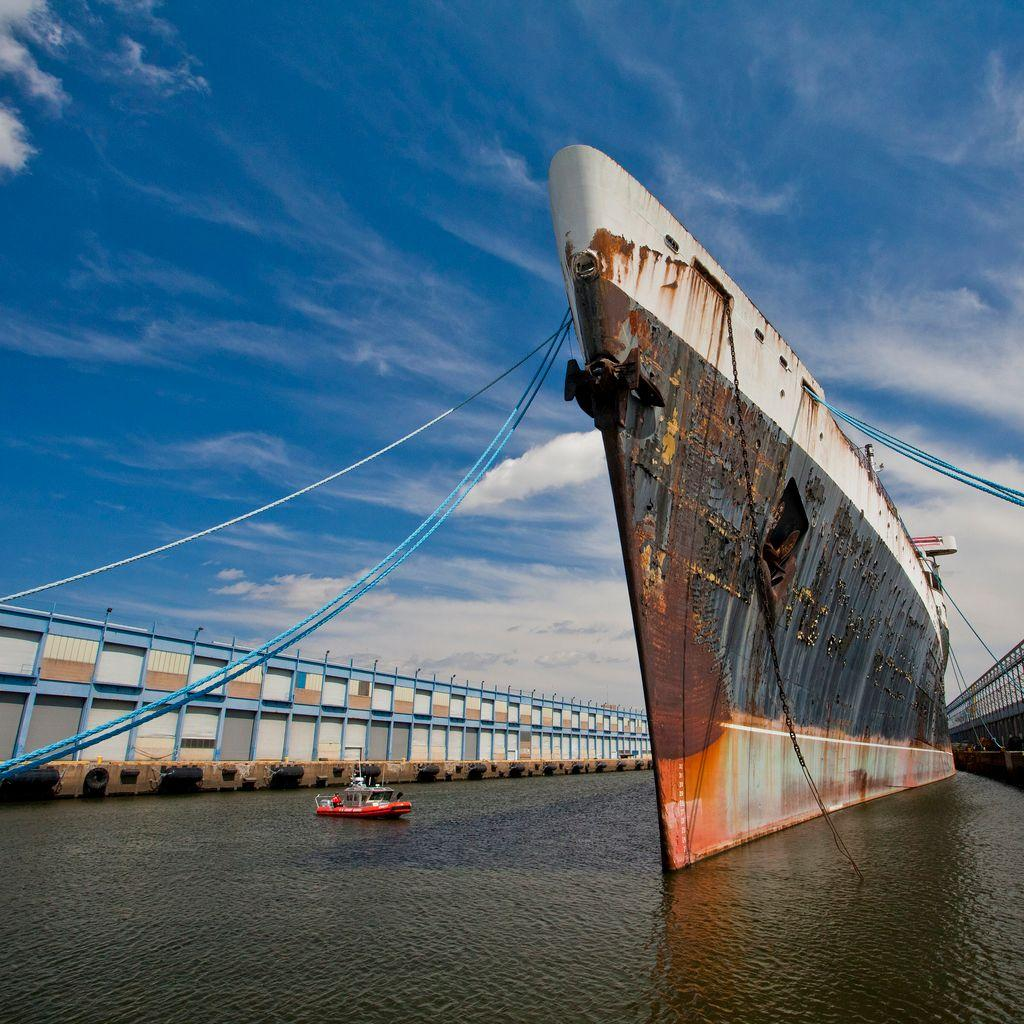rust: (618, 525, 733, 763), (594, 228, 745, 323)
